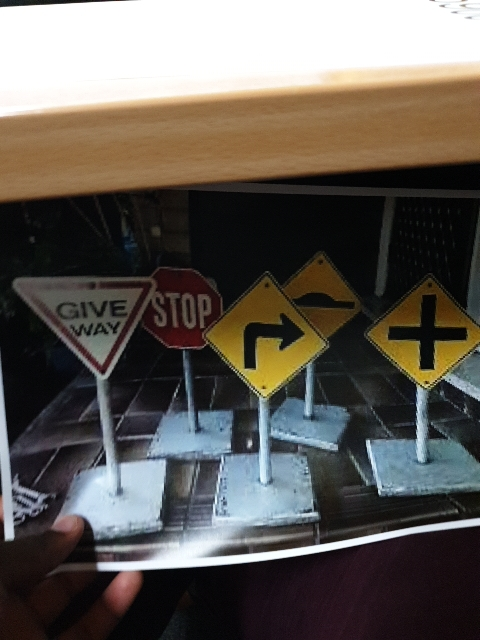giveway: (18, 264, 156, 374)
right: (198, 280, 333, 400)
stop: (132, 273, 230, 353)
